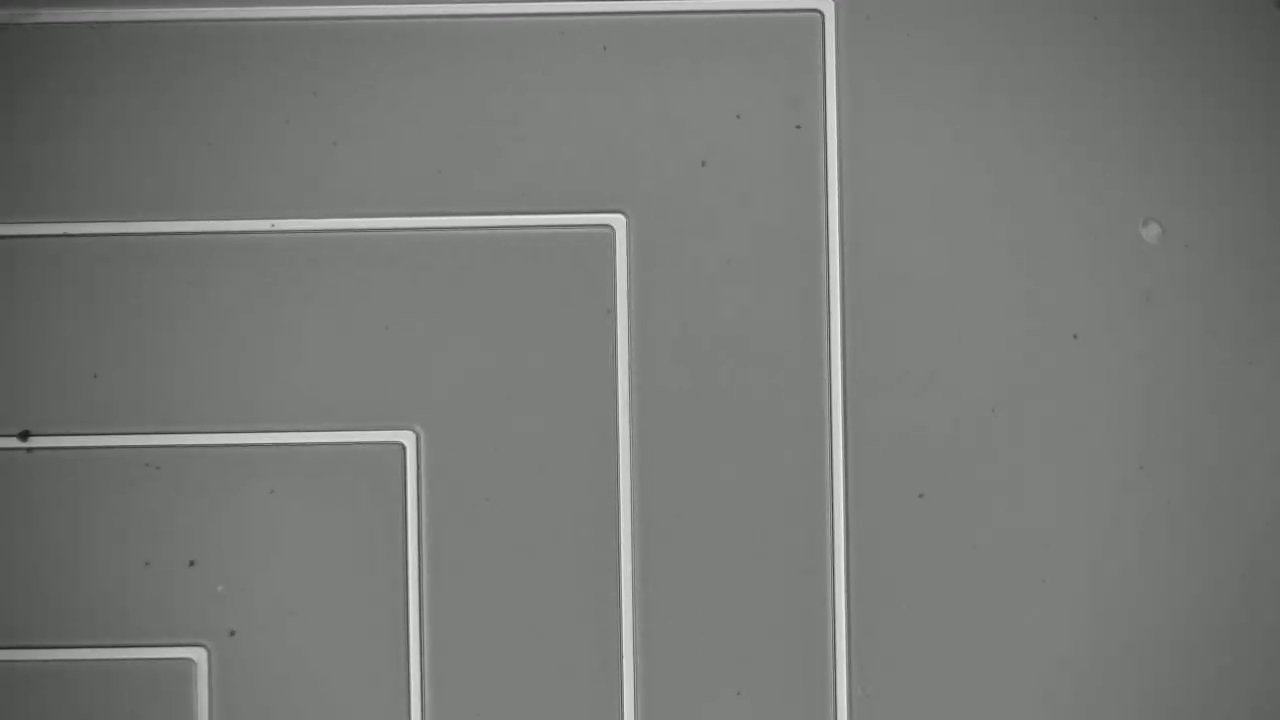stains_enbedded: (8, 422, 45, 464)
